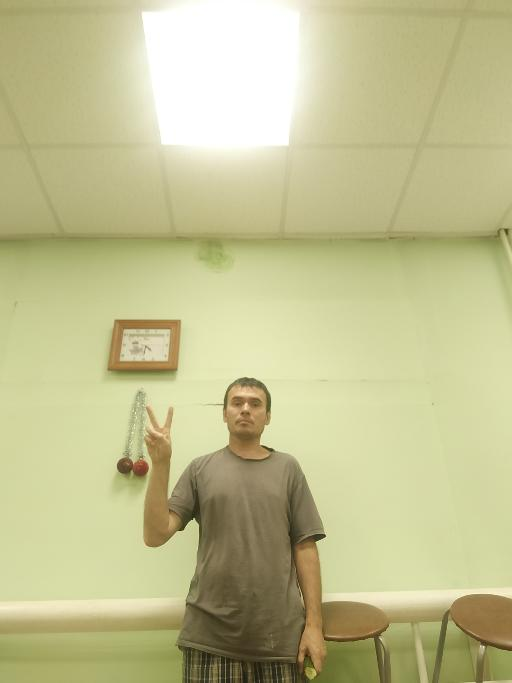no_gesture: (295, 624, 329, 678)
peace: (141, 402, 176, 465)
